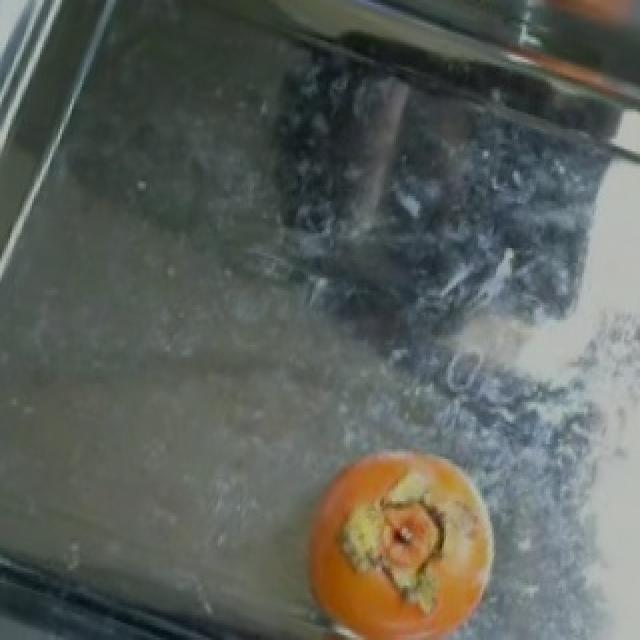Fruit: (282, 432, 520, 638), (474, 0, 640, 52)
